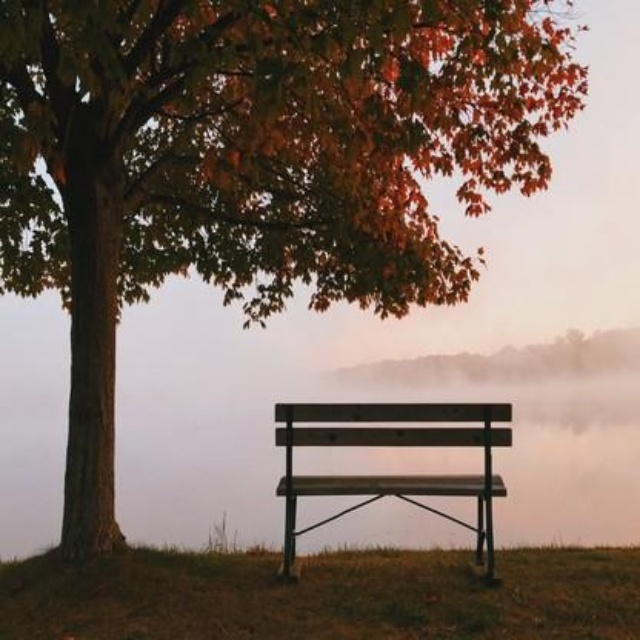obstacle: (260, 388, 526, 568)
